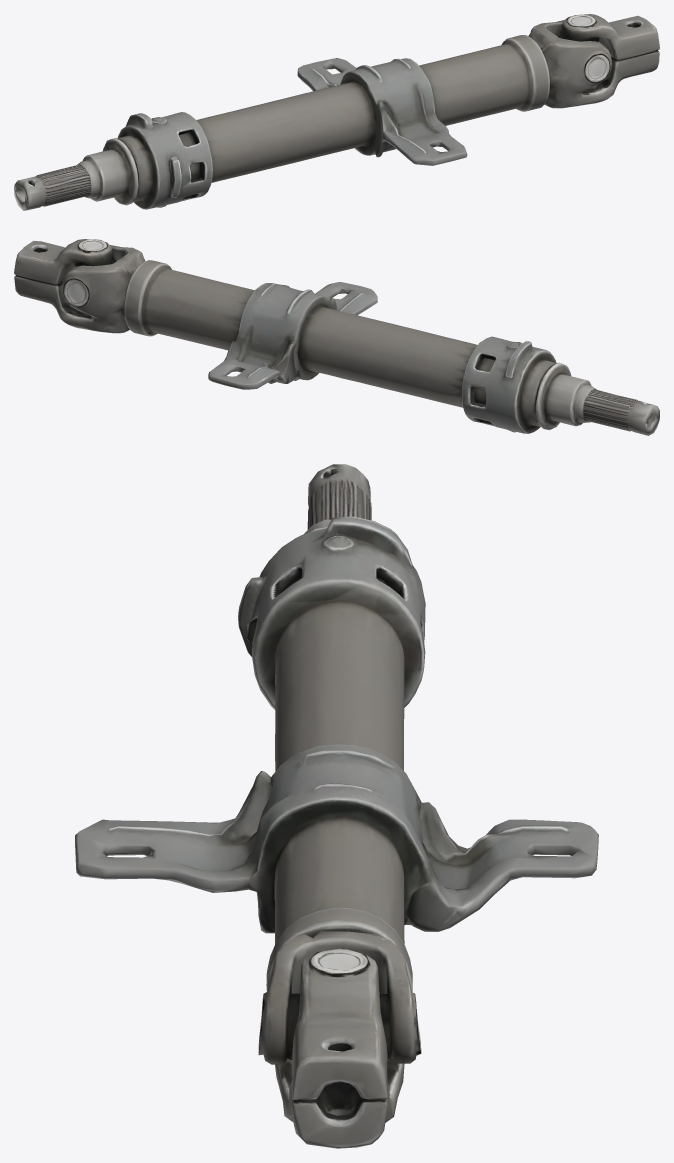
Rendered from steering-column-cover.glb.
3 renders of one model, top to bottom at view 1: azimuth 30°, elevation 25°; view 2: azimuth 150°, elevation 25°; view 3: azimuth 270°, elevation 25°, orthographic. The views are drawn at different scales.
Parts seen in each view (by area): view 1: tripo_node_c97ddea6-7cbc-4f90-8036-a9fad62e4151; view 2: tripo_node_c97ddea6-7cbc-4f90-8036-a9fad62e4151; view 3: tripo_node_c97ddea6-7cbc-4f90-8036-a9fad62e4151.
Boxes of the visible parts, x1,y1,x2,y2 form: tripo_node_c97ddea6-7cbc-4f90-8036-a9fad62e4151: (14, 14, 659, 210); tripo_node_c97ddea6-7cbc-4f90-8036-a9fad62e4151: (14, 239, 659, 435); tripo_node_c97ddea6-7cbc-4f90-8036-a9fad62e4151: (75, 464, 598, 1148).
Size of the model in its own units: 1 by 0.1397 by 0.362.
1 material, 1 textured.
